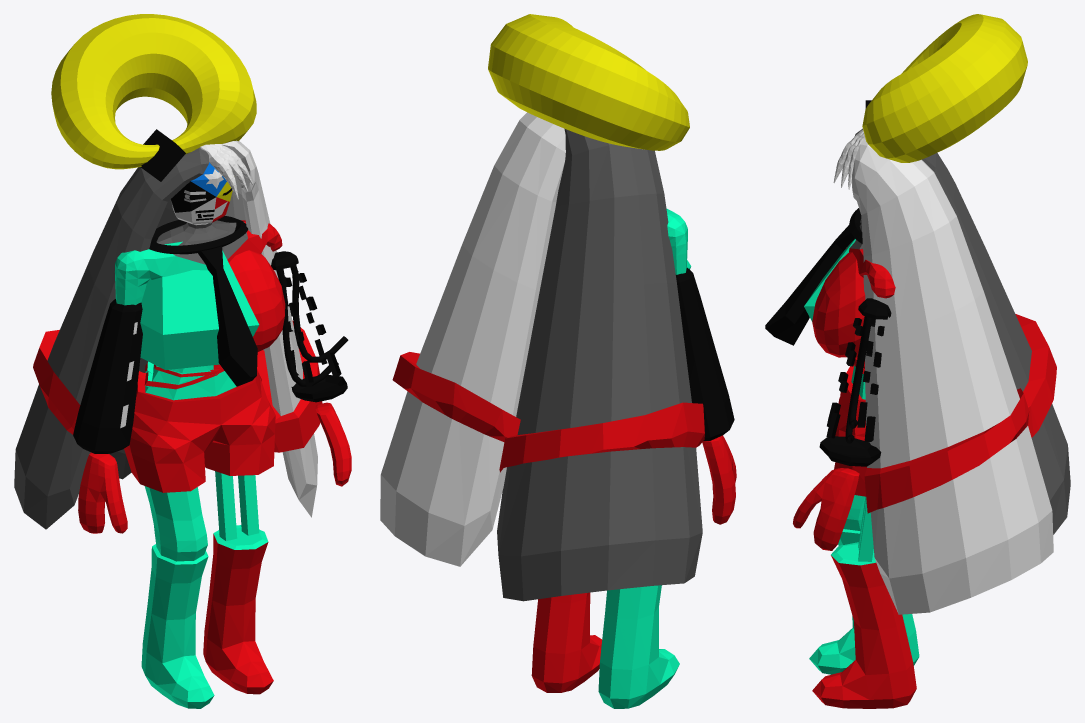
File: Enigma.fbx
3 renders of one model, left to right at view 1: azimuth 30°, elevation 25°; view 2: azimuth 150°, elevation 25°; view 3: azimuth 270°, elevation 25°, orthographic. The views are drawn at different scales.
Visible parts, largest first — view 1: Cube; view 2: Cube; view 3: Cube.
Part boxes in pixels (x1=…): Cube: x1=14, y1=14, x2=351, y2=708; Cube: x1=380, y1=14, x2=736, y2=708; Cube: x1=765, y1=14, x2=1070, y2=708.
Bounding box in the file's own units: 103 × 229 × 96.82.
